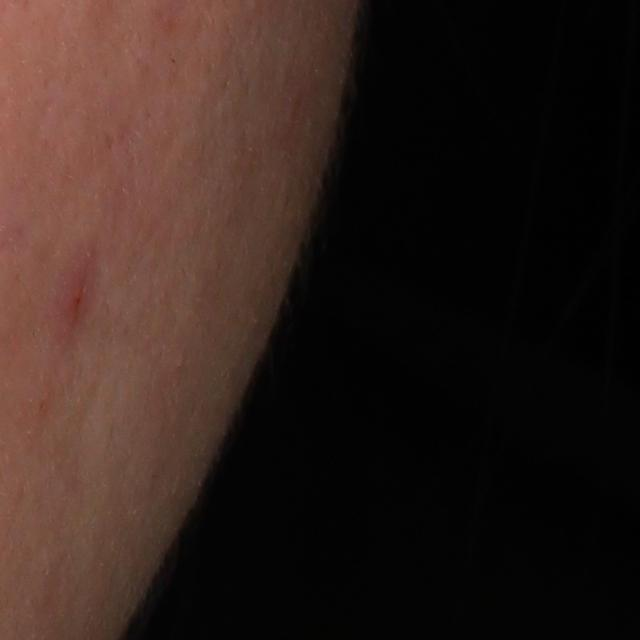papule: (54, 271, 97, 327)
